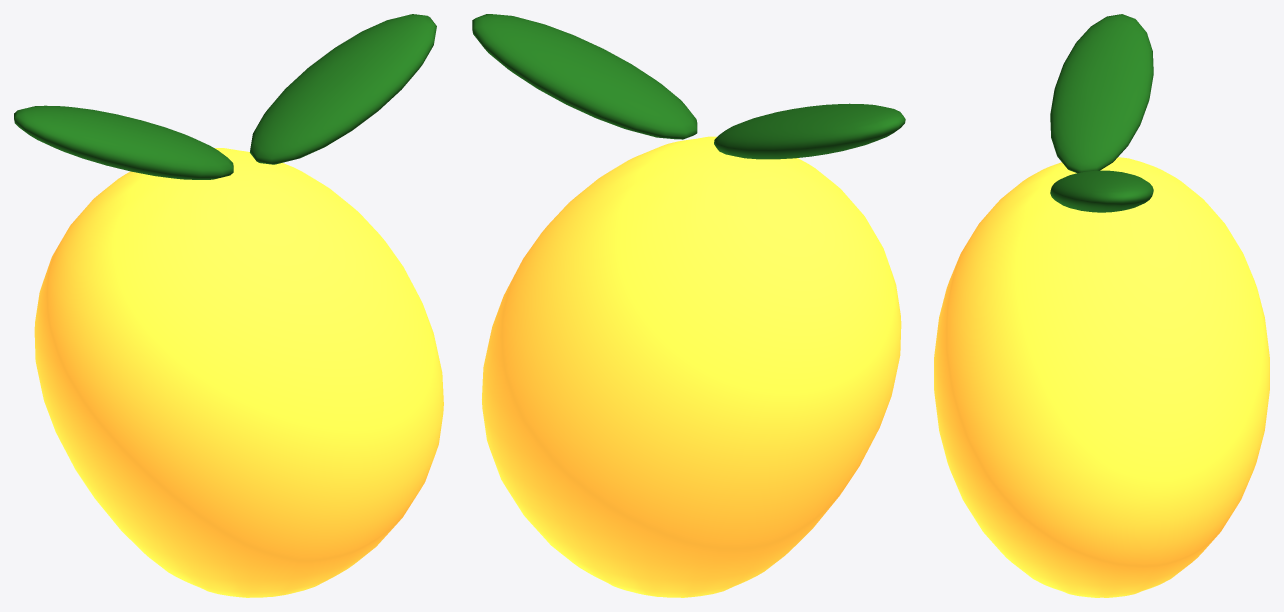
The model's file is prop_nitro_fruit.glb.
3 views of the same model, side by side, from view 1: azimuth 30°, elevation 25°; view 2: azimuth 150°, elevation 25°; view 3: azimuth 270°, elevation 25° (orthographic). The views are drawn at different scales.
Visible parts, largest first — view 1: FruitBody; view 2: FruitBody; view 3: FruitBody.
Part boxes in pixels (x1,y1,x2,y2): FruitBody: (14, 14, 443, 597); FruitBody: (472, 14, 905, 597); FruitBody: (934, 14, 1269, 597).
Bounding box in the file's own units: 1.06 × 1.27 × 0.8186.
Materials: 2 (1 with a texture image).
